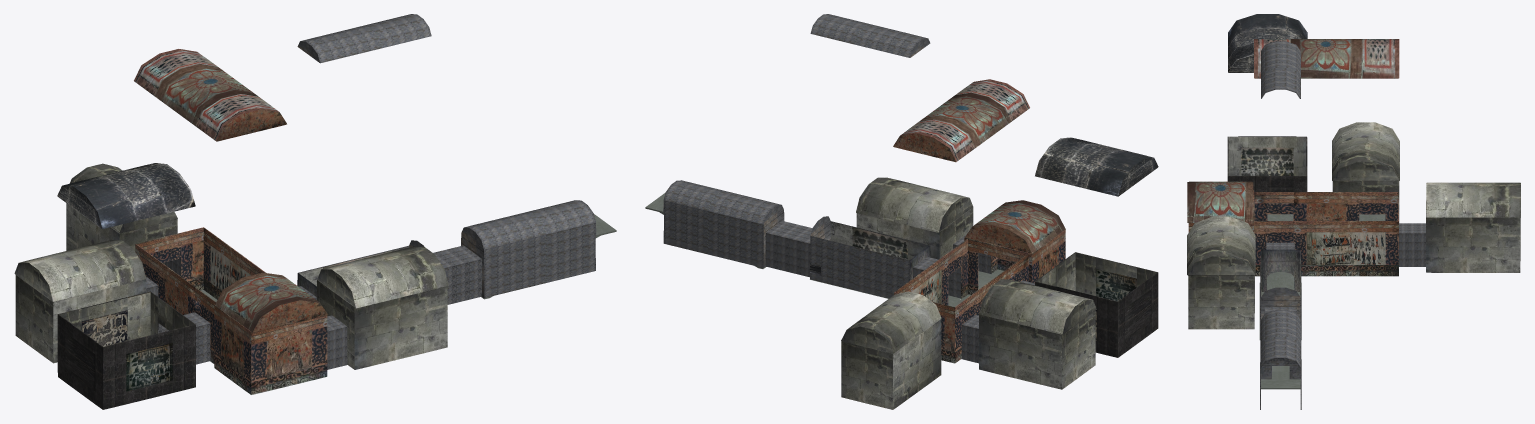
3 views of the same model, side by side, from view 1: azimuth 30°, elevation 25°; view 2: azimuth 150°, elevation 25°; view 3: azimuth 270°, elevation 25° (orthographic). The views are drawn at different scales.
Visible parts, largest first — view 1: 对象007, 对象047, 对象006, 对象039, 对象011, 对象004, 对象003, 对象031, 对象008, 对象002, 对象044, Cylinder001 (+17 smaller); view 2: 对象007, 对象006, 对象050, 对象012, 对象017, 对象004, 对象003, 对象005, 对象008, 对象055, 对象056, 对象002 (+18 smaller); view 3: 对象024, 对象058, 对象007, 对象003, 对象004, 对象037, 对象022, 对象005, 对象046, 对象008, 对象006, 对象002 (+10 smaller).
Boxes of the visible parts, x1,y1,x2,y2 form: 对象007: (134,49,286,141); 对象047: (103,324,195,409); 对象006: (57,163,195,229); 对象039: (354,286,447,369); 对象011: (484,222,595,297); 对象004: (14,240,146,301); 对象003: (317,246,448,308); 对象031: (251,315,327,394); 对象008: (215,272,327,333); 对象002: (297,14,431,63); 对象044: (58,291,150,346); Cylinder001: (464,200,595,249); 对象007: (893,79,1029,162); 对象006: (1035,137,1158,196); 对象050: (979,314,1061,389); 对象012: (663,200,763,267); 对象017: (810,236,909,298); 对象004: (979,279,1096,334); 对象003: (856,177,973,232); 对象005: (841,291,941,353); 对象008: (965,200,1065,253); 对象055: (841,341,892,409); 对象056: (893,319,941,409); 对象002: (810,14,930,57); 对象024: (1254,221,1398,276); 对象058: (1426,217,1520,272); 对象007: (1254,39,1399,78); 对象003: (1187,216,1255,275); 对象004: (1332,122,1399,180); 对象037: (1188,275,1254,329); 对象022: (1254,192,1398,220); 对象005: (1426,182,1520,217); 对象046: (1228,136,1306,175); 对象008: (1187,181,1253,222); 对象006: (1228,14,1307,72); 对象002: (1261,41,1300,98).
Size of the model in its own units: 3084 by 1590 by 1906.
12 materials, 12 textured.
